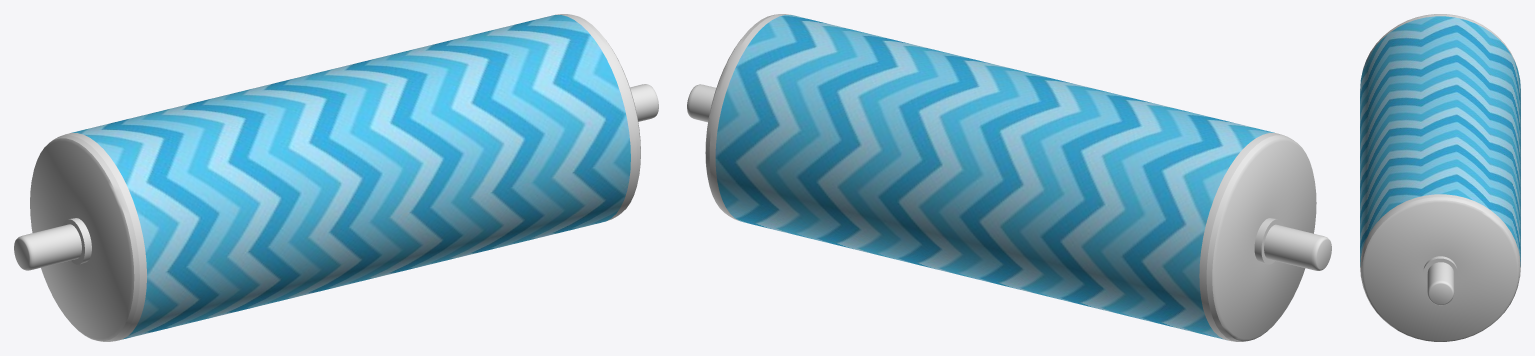
The model's file is Roller.fbx.
3 views of the same model, side by side, from view 1: azimuth 30°, elevation 25°; view 2: azimuth 150°, elevation 25°; view 3: azimuth 270°, elevation 25° (orthographic). The views are drawn at different scales.
Parts seen in each view (by area): view 1: R. Roller, R. Left Pole; view 2: R. Roller, R. Left Pole; view 3: R. Roller, R. Left Pole.
Boxes of the visible parts, x1,y1,x2,y2 form: R. Roller: (30, 14, 640, 341); R. Left Pole: (14, 84, 658, 270); R. Roller: (705, 14, 1316, 341); R. Left Pole: (687, 84, 1331, 270); R. Roller: (1360, 14, 1520, 341); R. Left Pole: (1427, 262, 1454, 305).
Size of the model in its own units: 682 by 200 by 200.
Materials: 5 (1 with a texture image).
